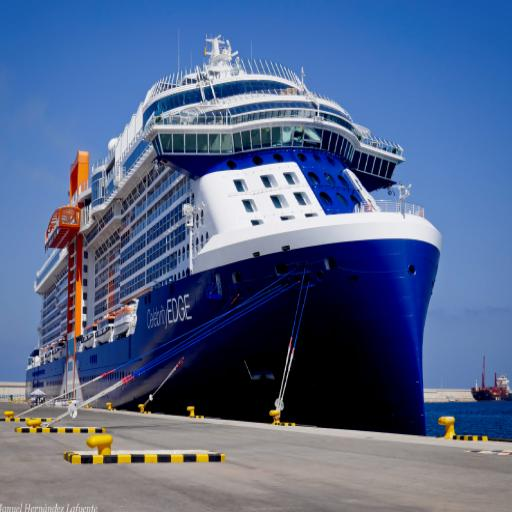cruises: (25, 33, 447, 455)
